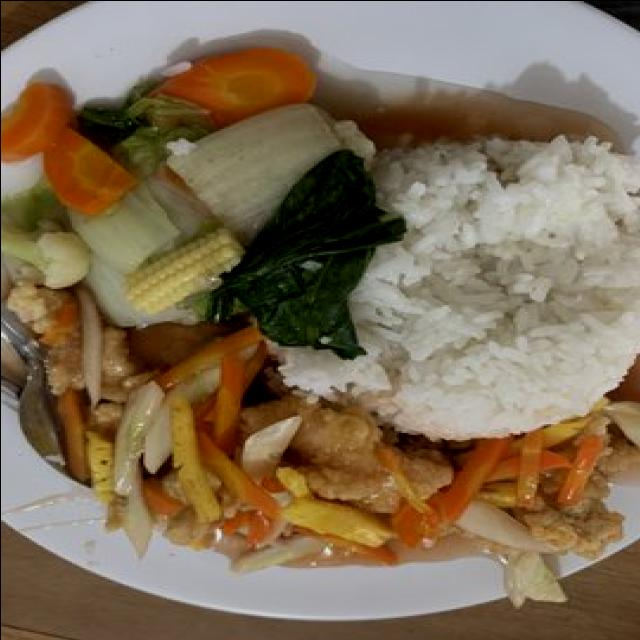capcay: (0, 44, 640, 604)
nasi: (275, 135, 640, 439)
